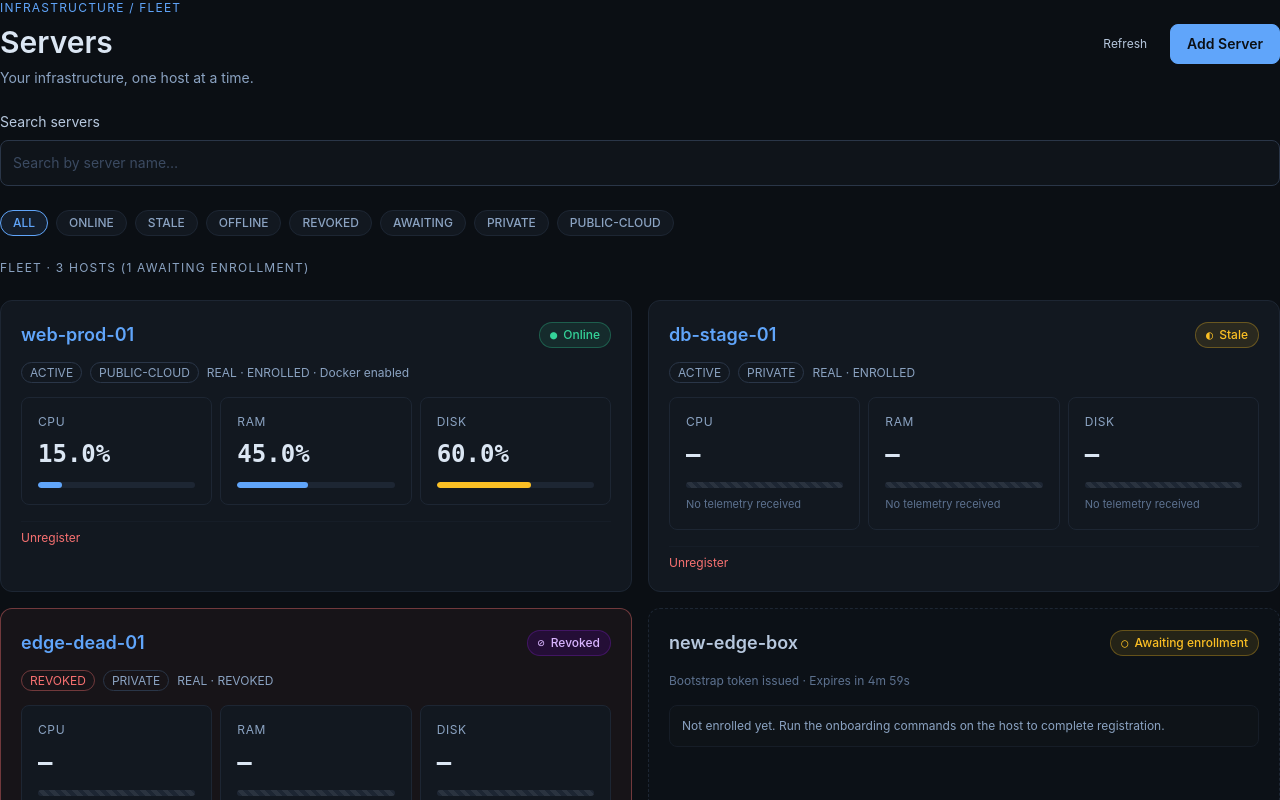
Servers view (fleet + filters + awaiting rows) › renders real hosts and filter chips filter correctly
Check: the link "web-prod-01" is shown, box [21,321,134,349]
Check: the link "db-stage-01" is shown, box [669,321,776,349]
# Filter by ONLINE
Click the button "ONLINE" at (91, 223), box [56,210,127,236]
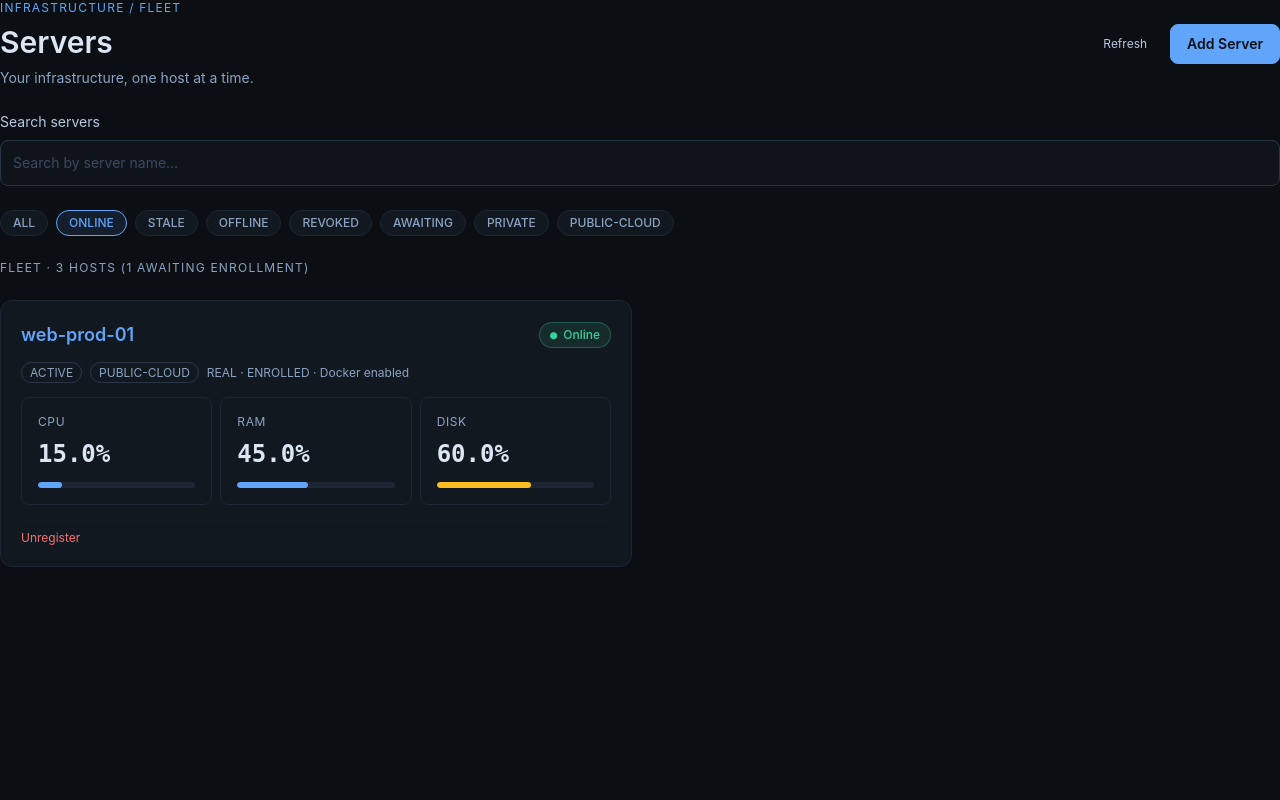
Check: the link "db-stage-01" is gone
Check: the link "edge-dead-01" is gone
Check: the text "new-edge-box" is gone
# Filter by AWAITING
Click the button "AWAITING" at (423, 223), box [380,210,466,236]
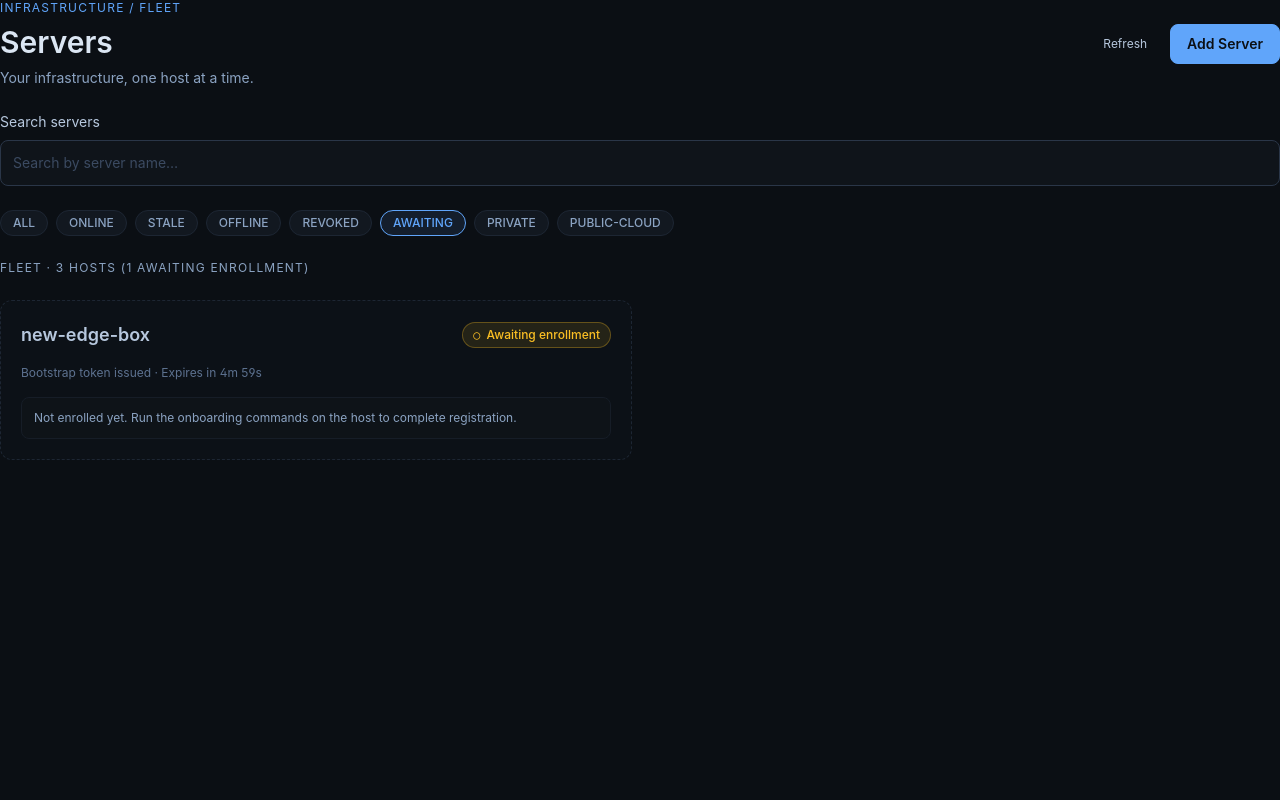
Check: the link "web-prod-01" is gone
Check: the text "new-edge-box" is shown, box [21,321,150,349]
# Filter by REVOKED
Click the button "REVOKED" at (331, 223), box [290,210,372,236]
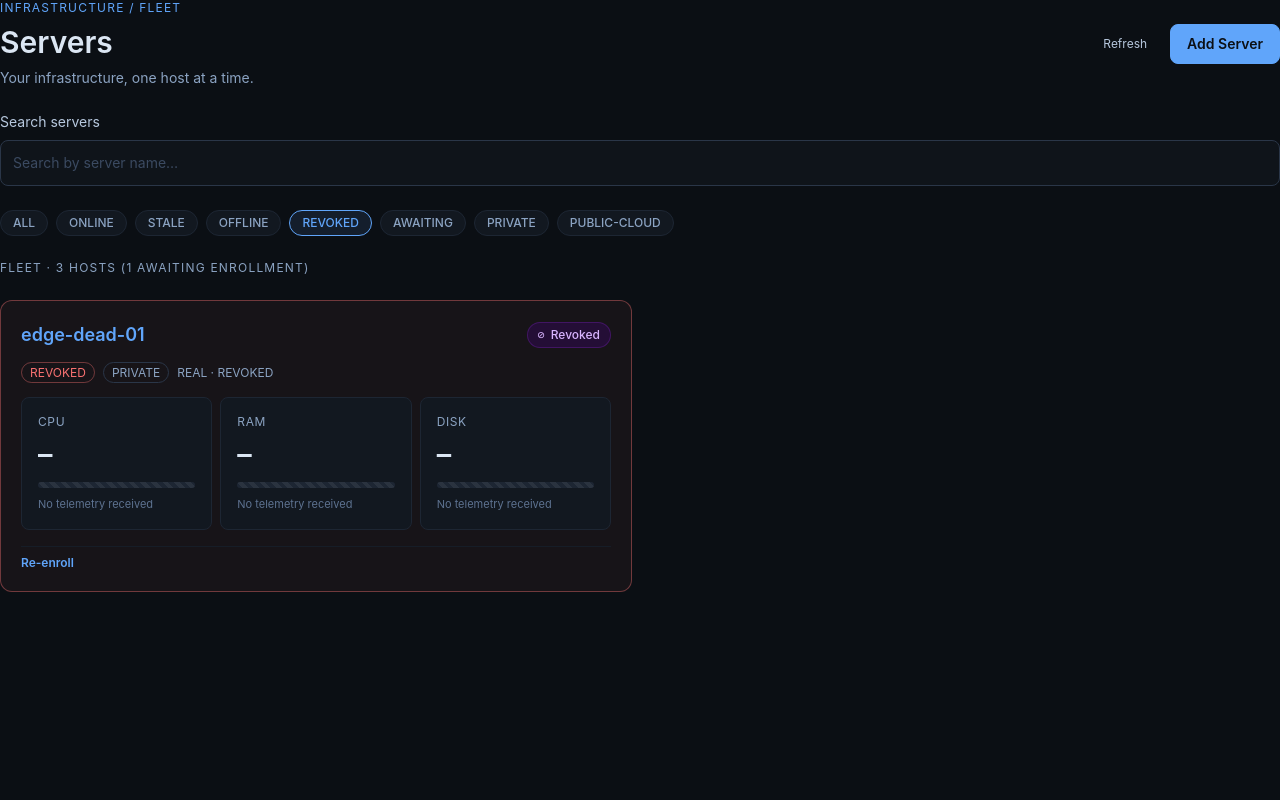
Check: the link "web-prod-01" is not shown
Check: the link "edge-dead-01" is shown, box [21,321,145,349]
# Back to ALL, search filter
Click the button "ALL" at (24, 223), box [0,210,48,236]
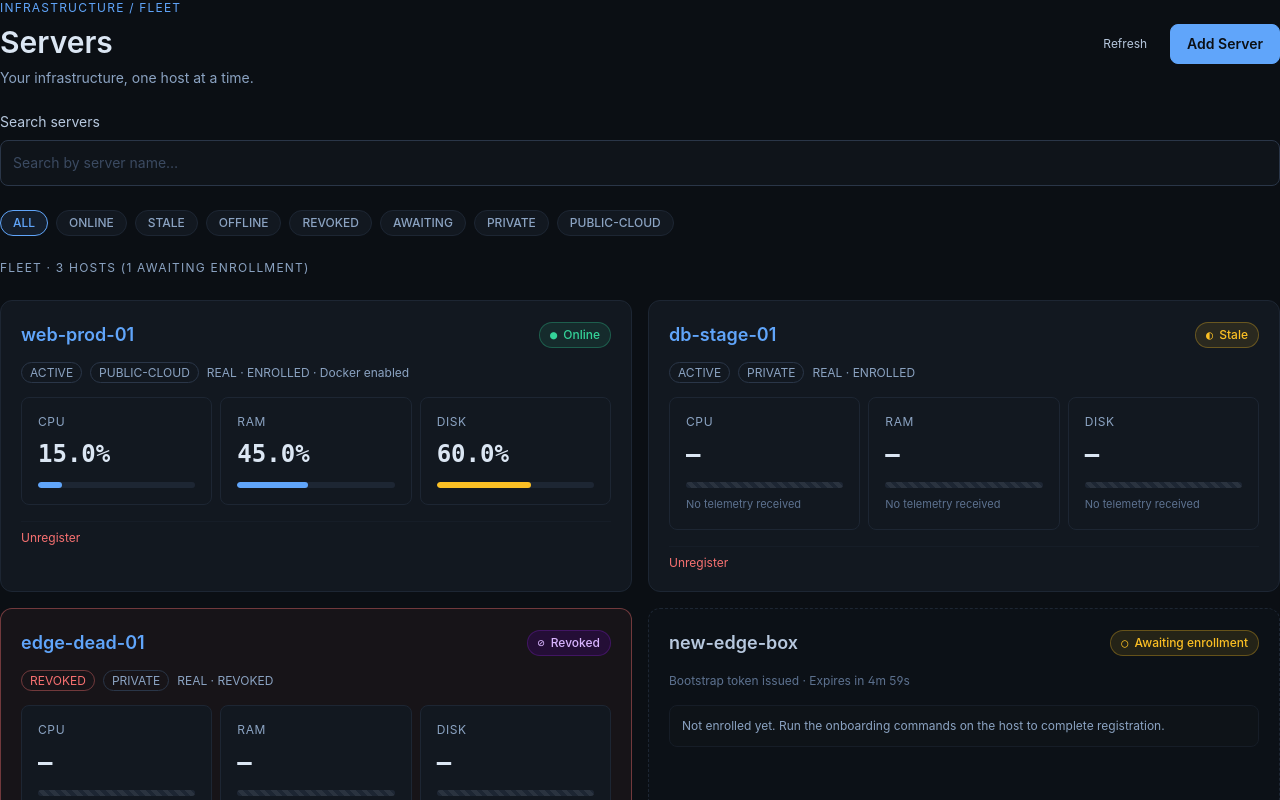
Type "prod" into the field labelled "Search servers" at (640, 163), box [0,140,1279,186]
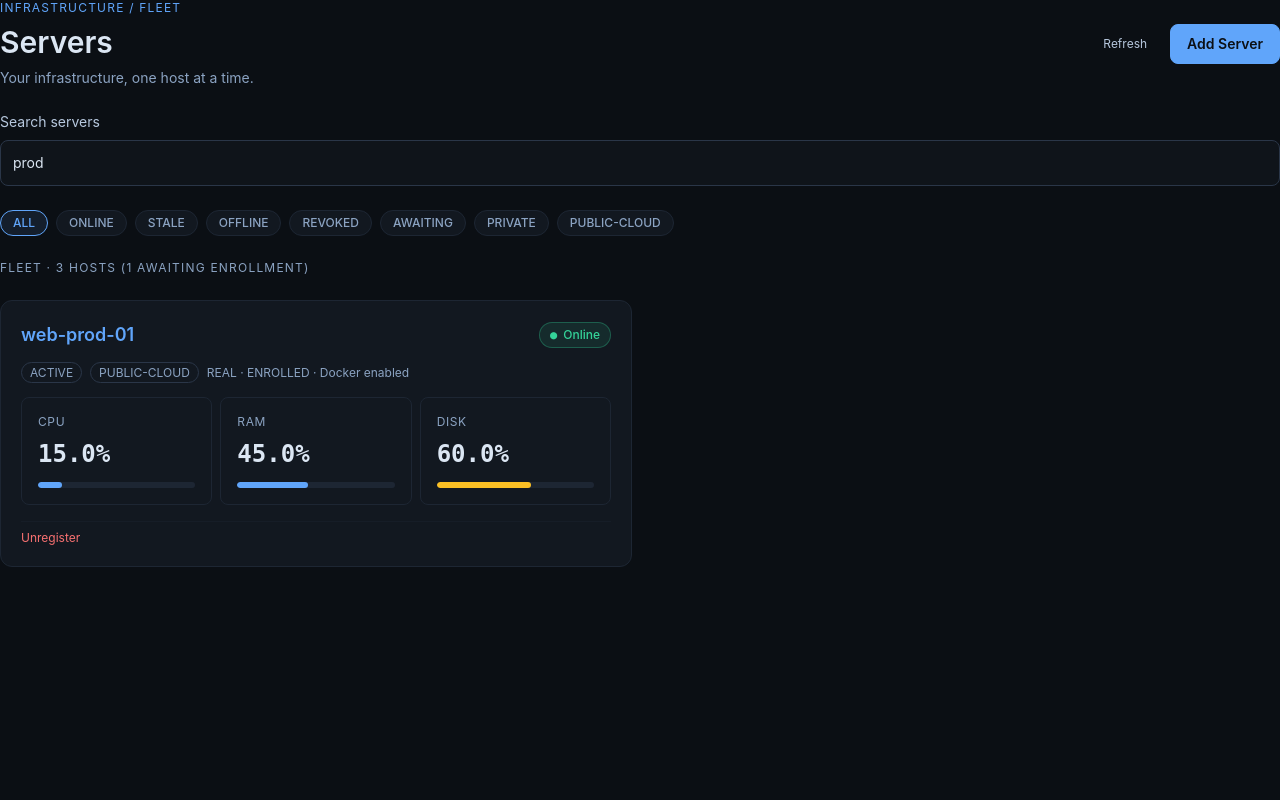
Check: the link "web-prod-01" is shown, box [21,321,134,349]
Check: the link "db-stage-01" is gone
Check: the text "new-edge-box" is gone
